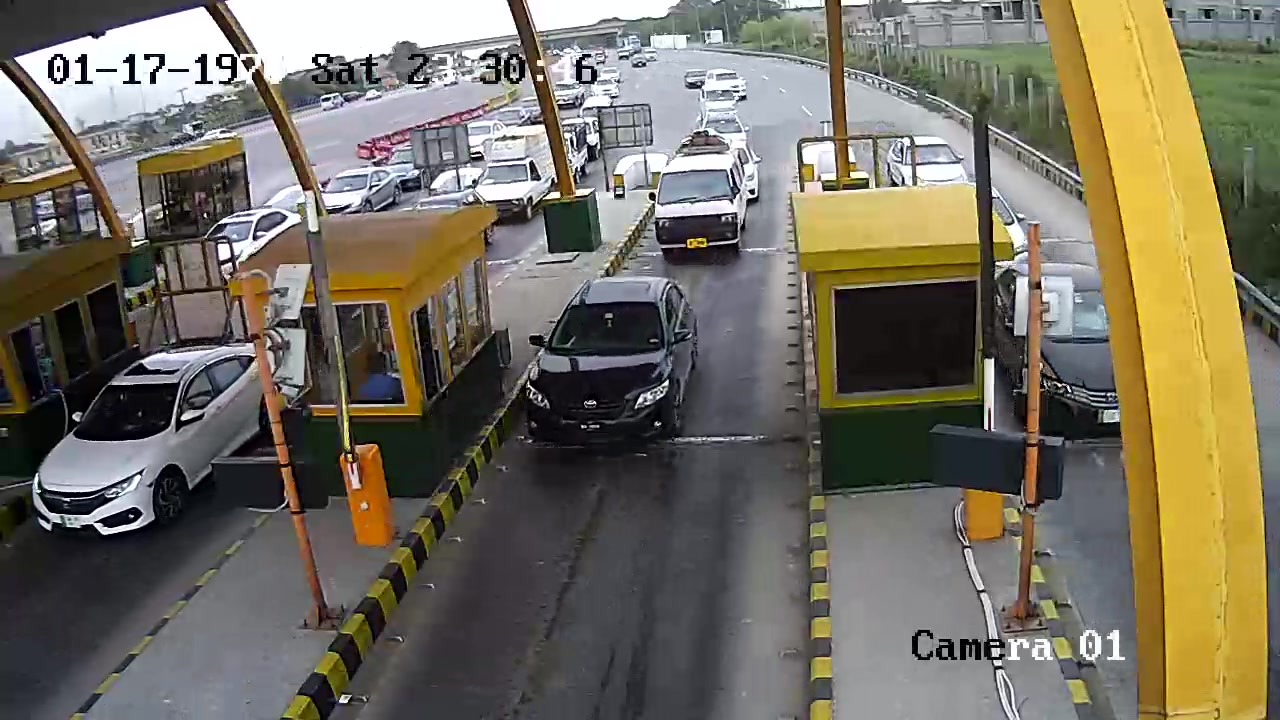F1: (506, 268, 721, 468)
